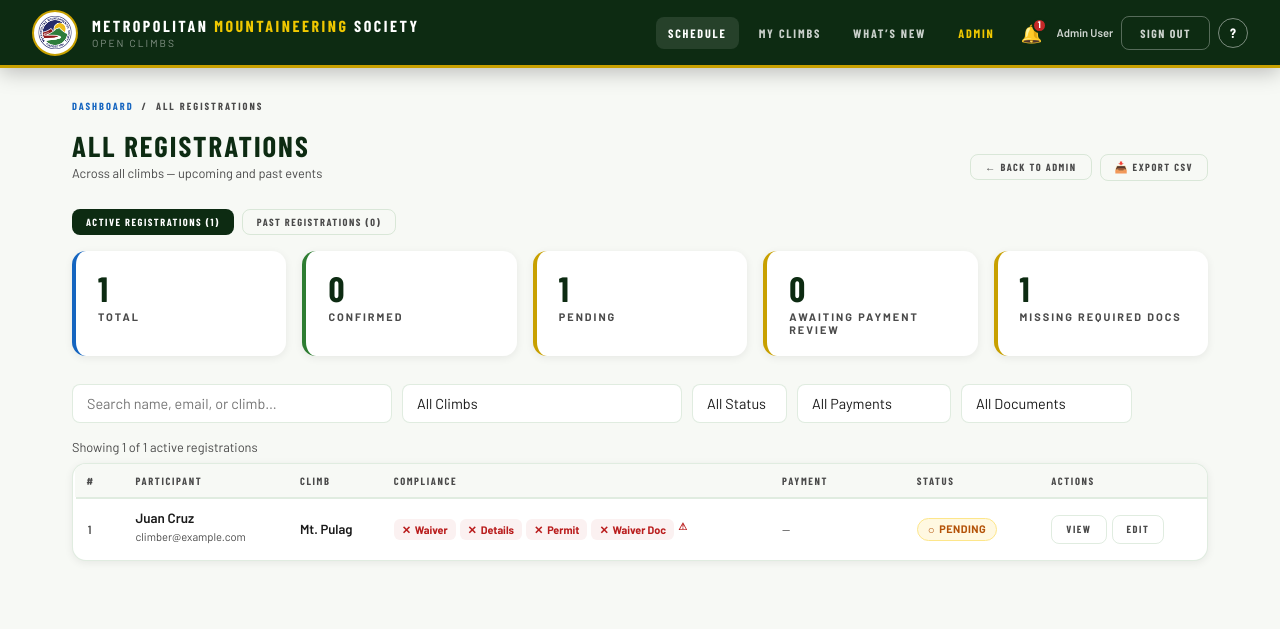
Test case: Admin AllRegistrations › shows missing permit and waiver-of-responsibility documents for the registrant's climb
The image size is (1280, 629).
Click the text "Juan Cruz" at (165, 518), box [136,510,194,526]
(page scrolled)
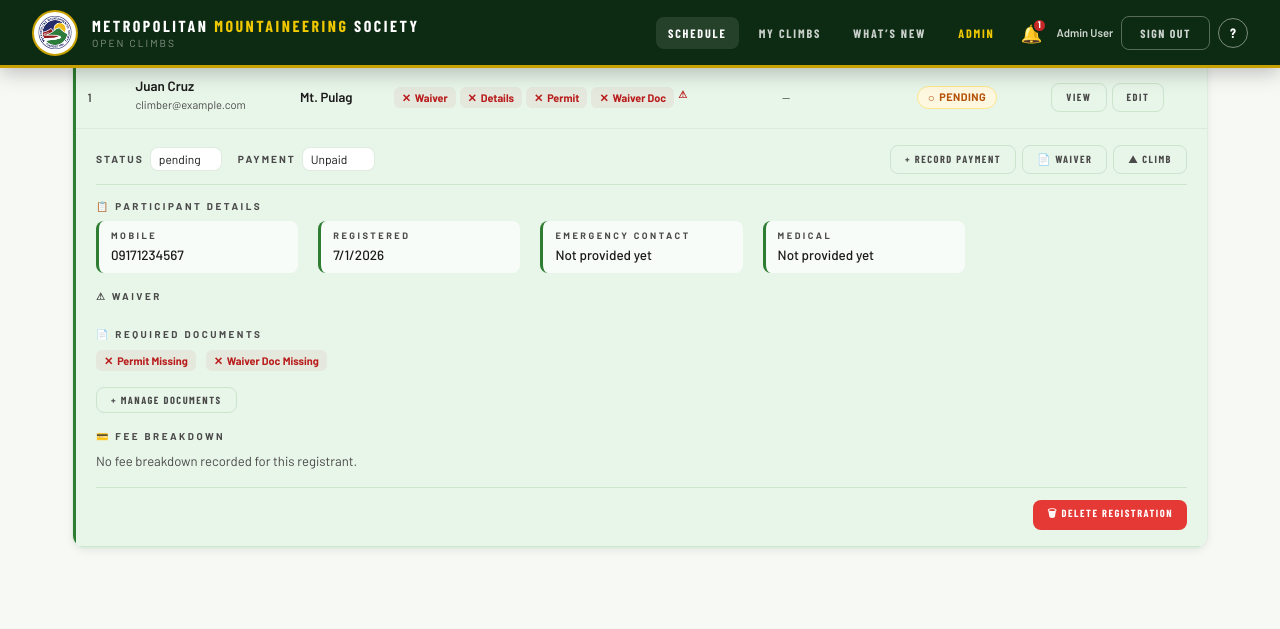
Check: the text "✕ Permit Missing" is shown, box [96,350,196,371]
Check: the text "✕ Waiver Doc Missing" is shown, box [206,350,327,371]
